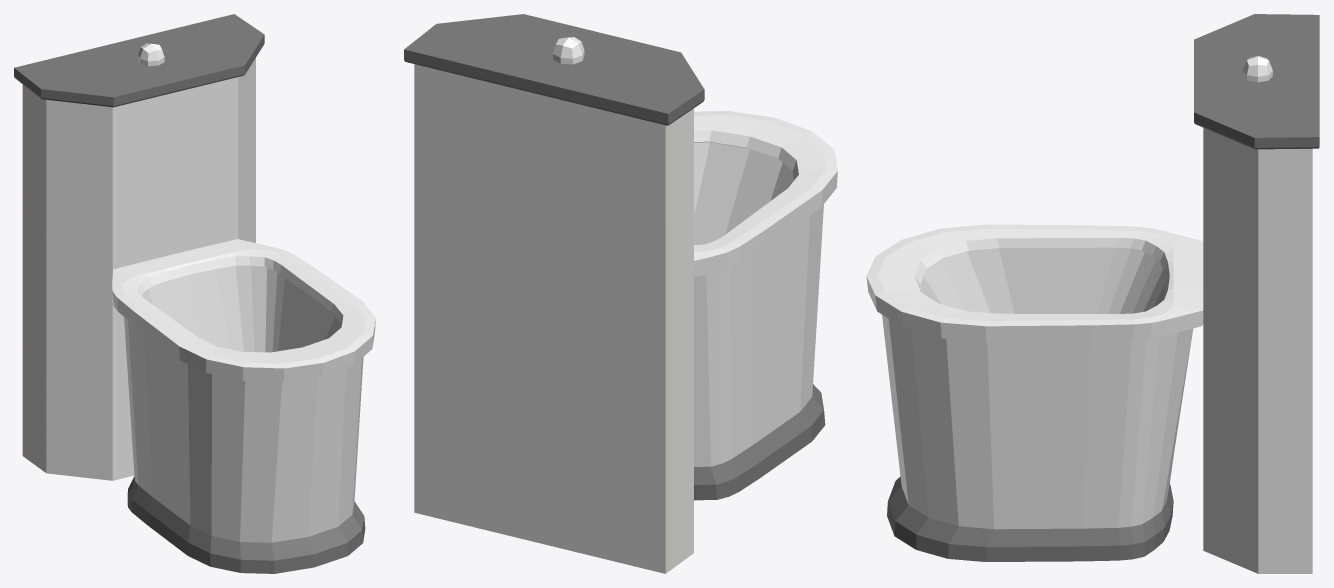
File: Prop_Toilet_01.fbx
The picture shows the model from 3 angles, left to right: view 1: azimuth 30°, elevation 25°; view 2: azimuth 150°, elevation 25°; view 3: azimuth 270°, elevation 25°; orthographic projection. The views are drawn at different scales.
Parts seen in each view (by area): view 1: Prop_Toilet_01; view 2: Prop_Toilet_01; view 3: Prop_Toilet_01.
Boxes of the visible parts, x1,y1,x2,y2 form: Prop_Toilet_01: (14, 14, 375, 573); Prop_Toilet_01: (404, 14, 837, 573); Prop_Toilet_01: (866, 14, 1319, 573).
Size of the model in its own units: 42.54 by 73.49 by 65.71.
